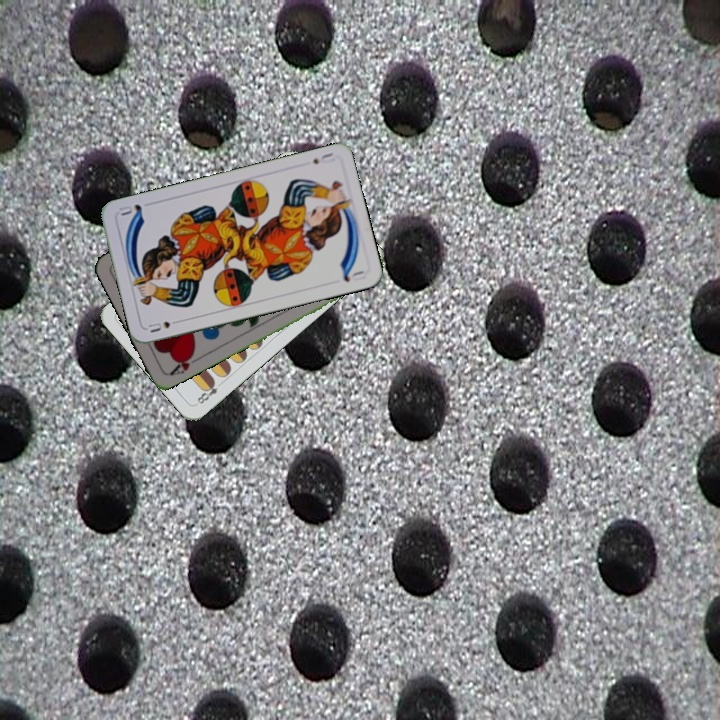E8: (192, 376, 226, 407)
HA: (165, 349, 203, 378)
SU: (144, 315, 184, 335), (308, 148, 337, 167)
